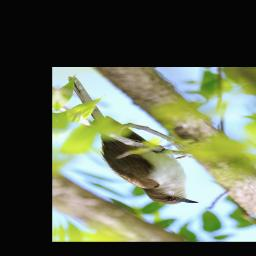Cuckoo: (61, 75, 204, 206)
